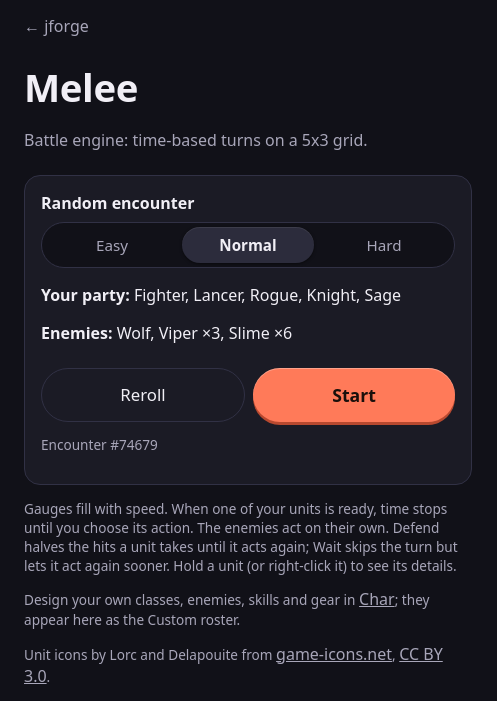
it: melee App › given a hard encounter, when Start is pressed, then the battle shows
This screenshot has width=497, height=701.
Click the radio button labelled "Hard" at [384, 245], box left=318, top=227, right=450, bottom=263
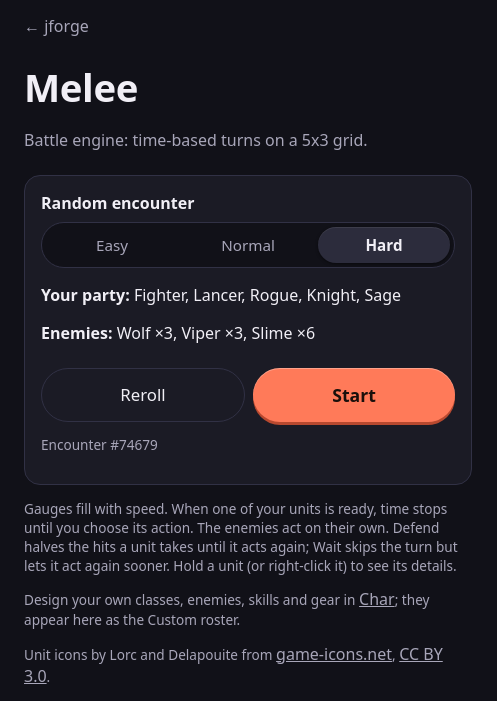
Click the button "Start" at [354, 395], box left=253, top=368, right=455, bottom=422
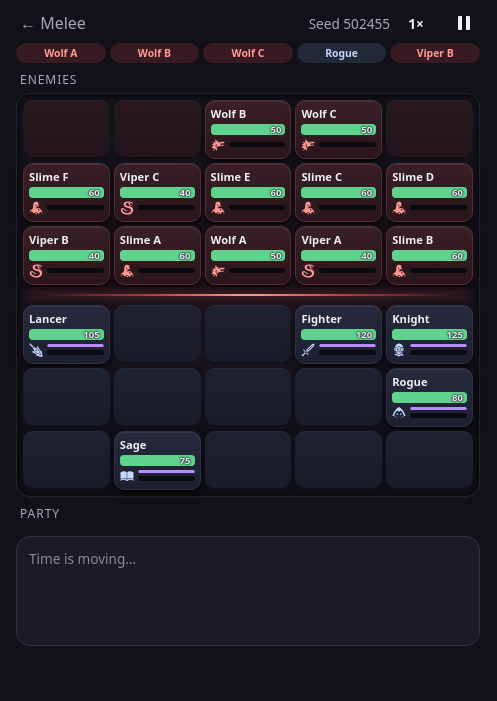
expect the table named "Enemies" is shown: met, box left=23, top=100, right=473, bottom=285
